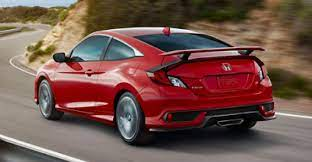Honda: (32, 25, 279, 143)
